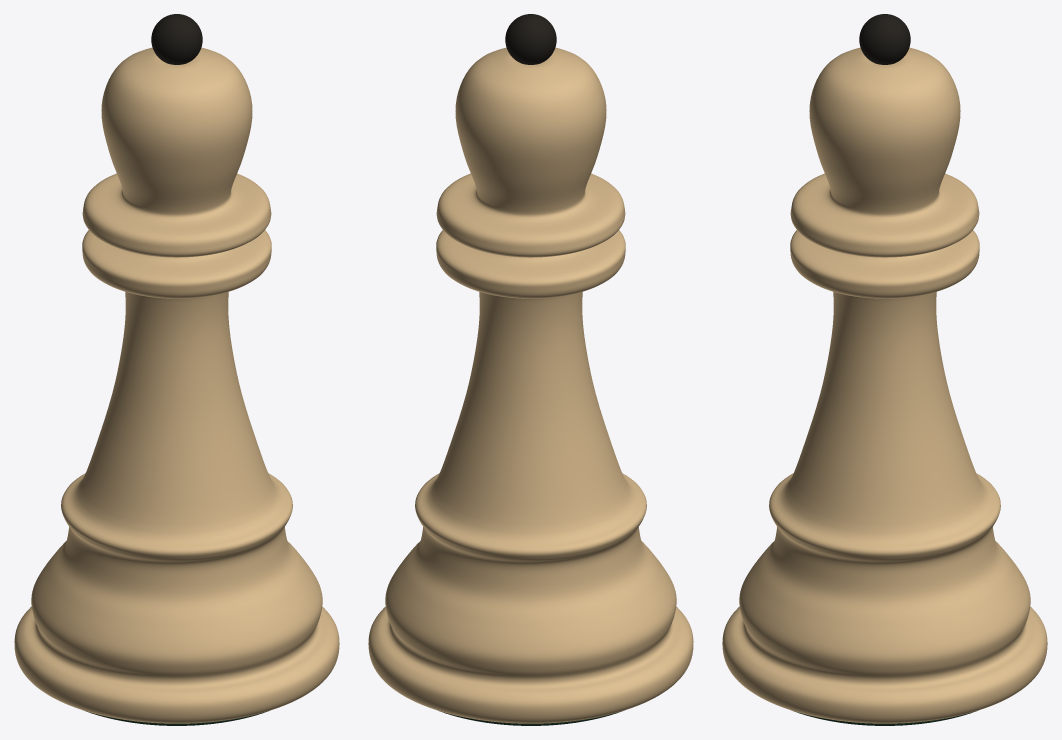
File: bishop.glb
3 views of the same model, side by side, from view 1: azimuth 30°, elevation 25°; view 2: azimuth 150°, elevation 25°; view 3: azimuth 270°, elevation 25° (orthographic).
Parts seen in each view (by area): view 1: Bishop.001; view 2: Bishop.001; view 3: Bishop.001.
Boxes of the visible parts, box(x1,y1,x2,y2) form: Bishop.001: box(14, 14, 339, 725); Bishop.001: box(368, 14, 693, 725); Bishop.001: box(722, 14, 1047, 725).
Bounding box in the file's own units: 0.0354 × 0.0784 × 0.0354.
